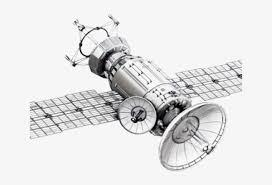antenna: (157, 101, 228, 172), (118, 95, 158, 135)
body: (64, 14, 193, 137)
solar: (29, 88, 130, 143), (168, 59, 242, 101)
